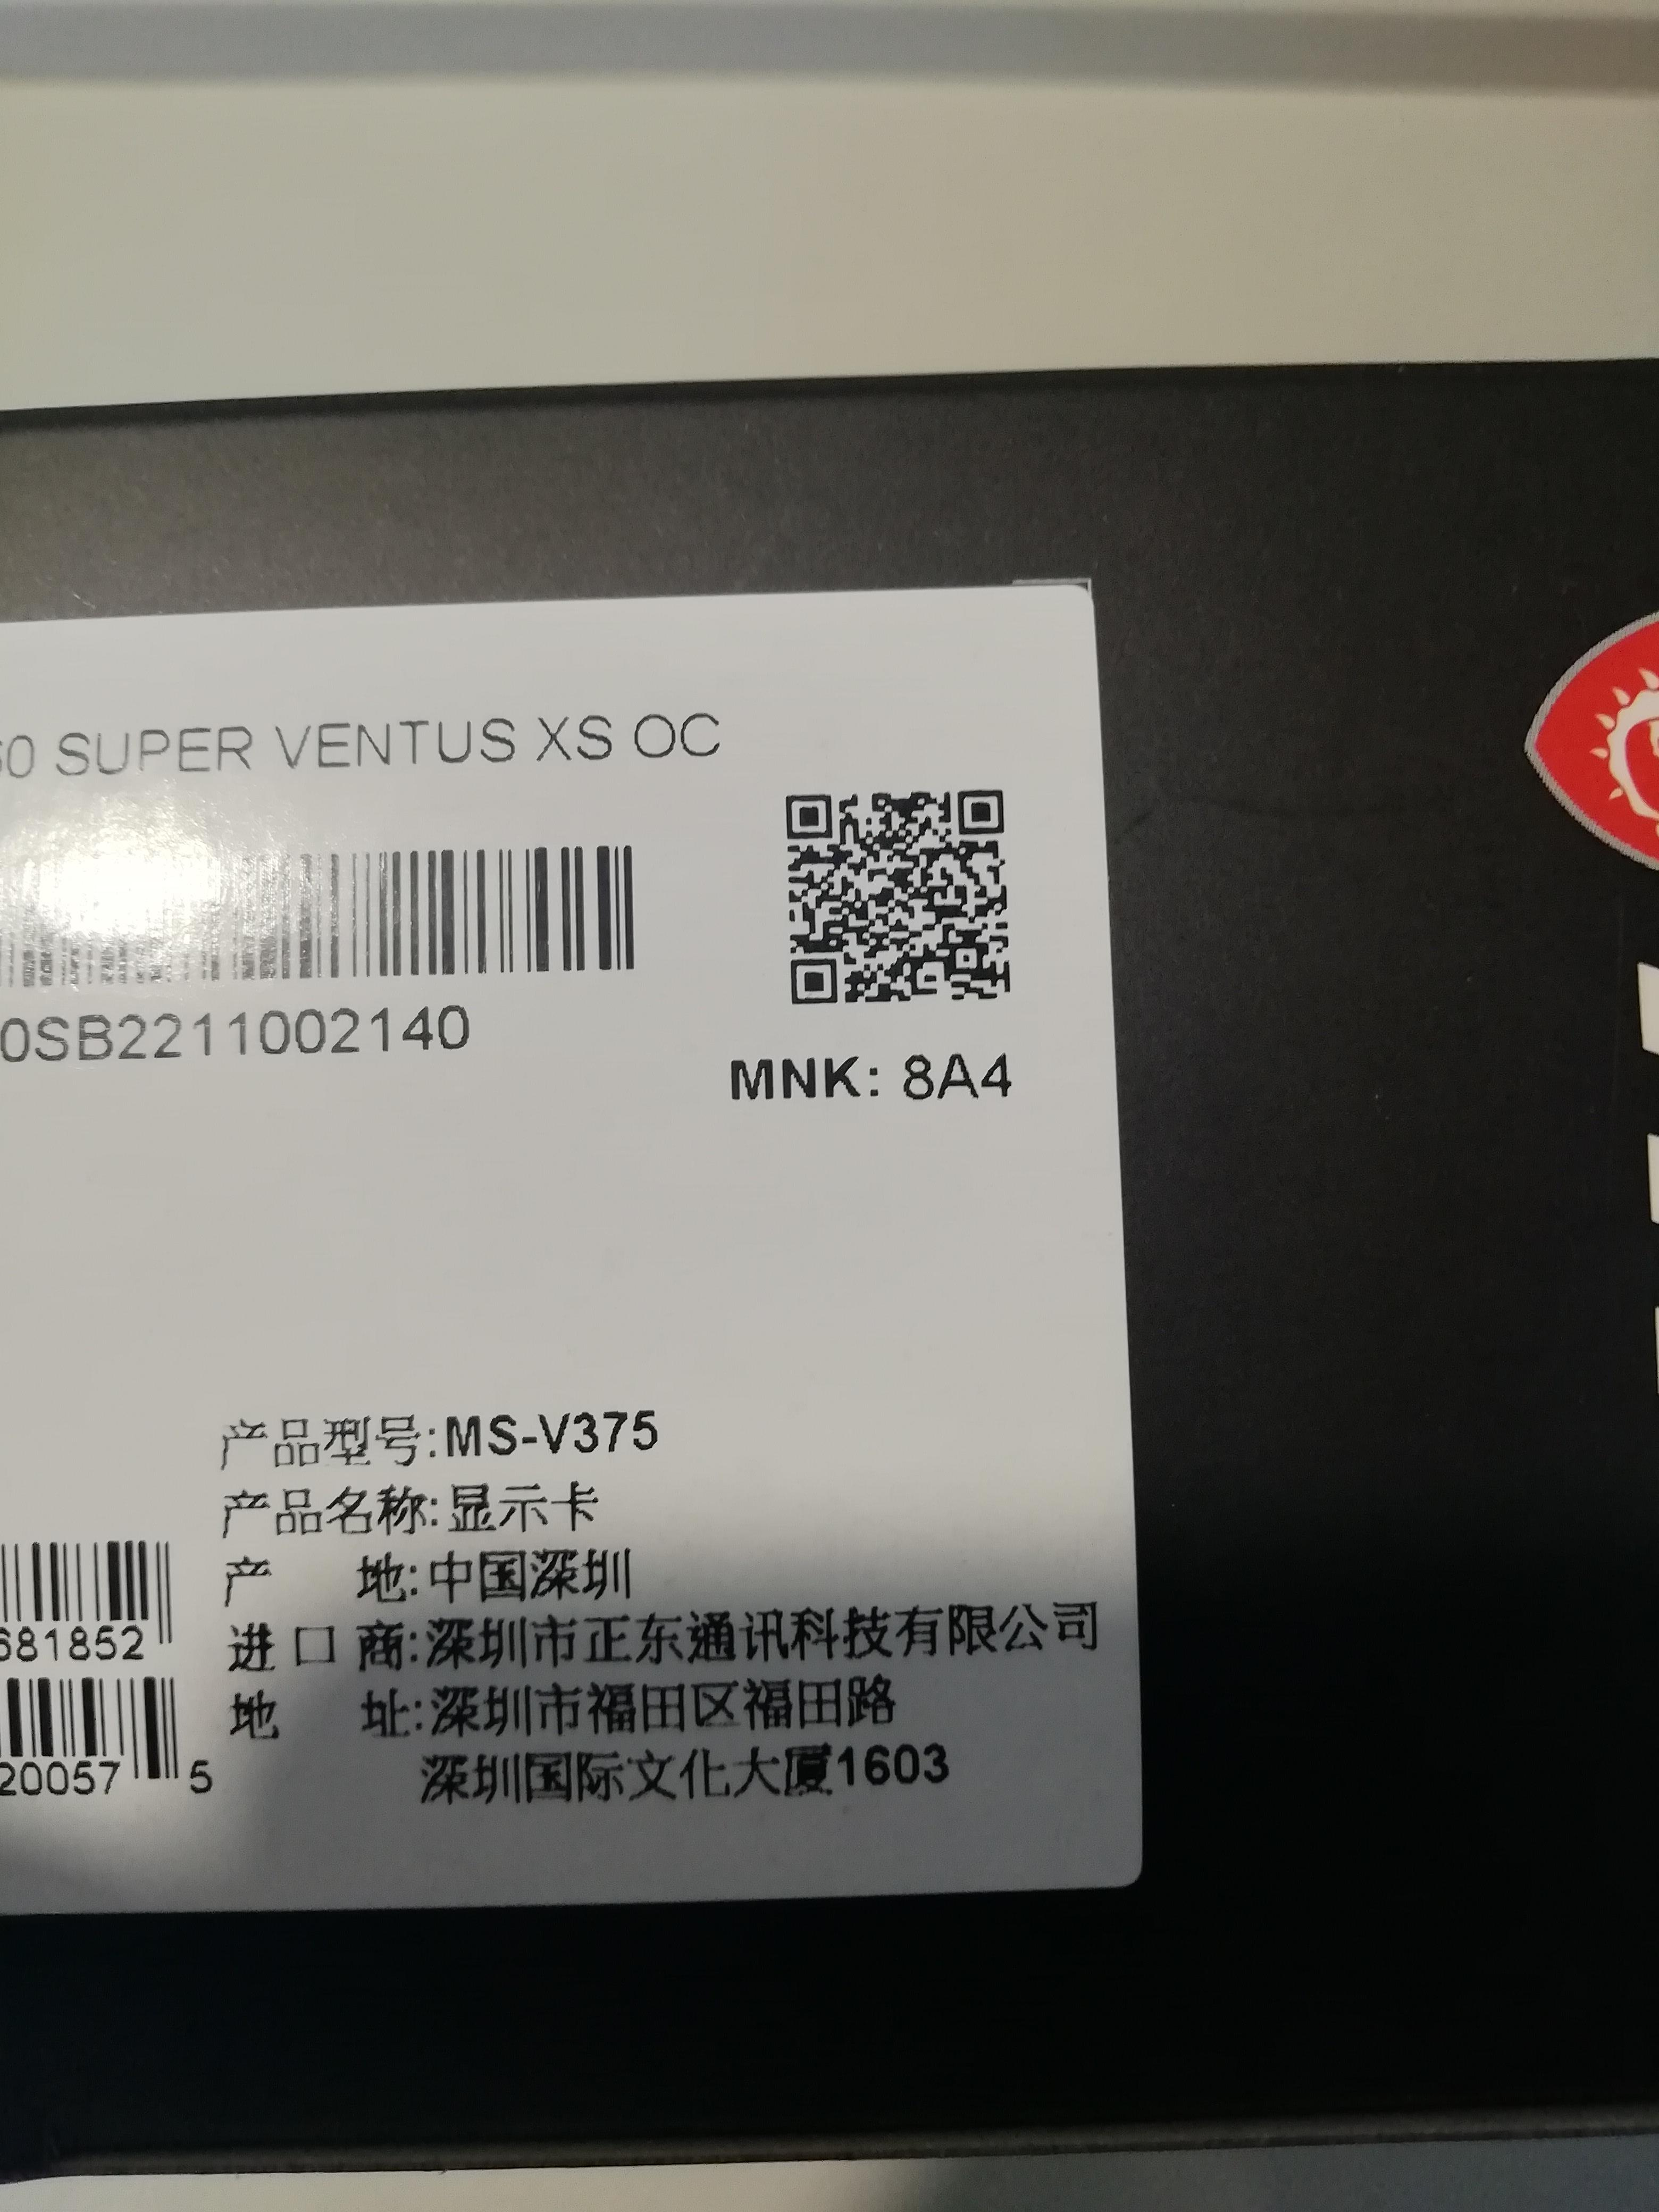qrcode: (788, 787, 1011, 1010)
